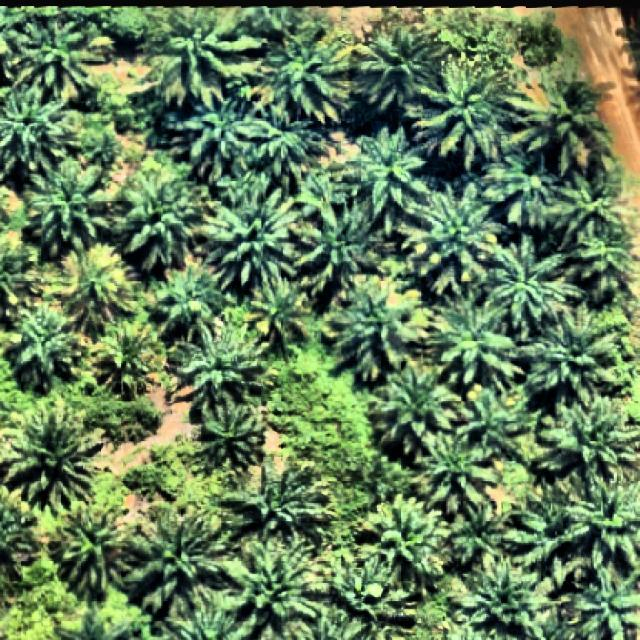Kelapa_Sawit: (398, 181, 514, 297), (202, 170, 302, 301), (418, 45, 520, 173), (123, 512, 231, 626), (507, 68, 616, 180), (4, 404, 104, 520), (165, 314, 270, 420), (366, 363, 472, 468), (423, 283, 523, 394), (516, 306, 616, 414), (294, 193, 392, 302), (112, 169, 208, 280), (446, 549, 563, 640), (328, 271, 422, 384), (258, 22, 358, 128), (480, 234, 586, 334), (178, 86, 278, 188), (224, 540, 330, 636), (47, 498, 135, 606), (20, 154, 111, 258), (535, 397, 640, 483), (8, 18, 116, 100), (353, 492, 447, 586), (236, 460, 332, 552), (412, 427, 498, 524), (356, 28, 452, 114), (344, 124, 428, 221), (479, 147, 568, 230), (146, 262, 228, 352), (505, 482, 590, 568), (6, 302, 83, 396), (329, 550, 423, 626), (566, 476, 640, 570), (68, 248, 141, 342), (454, 386, 531, 464), (244, 270, 308, 362), (553, 168, 621, 254), (250, 110, 322, 184), (198, 398, 268, 472), (448, 498, 518, 568), (99, 323, 158, 399)
